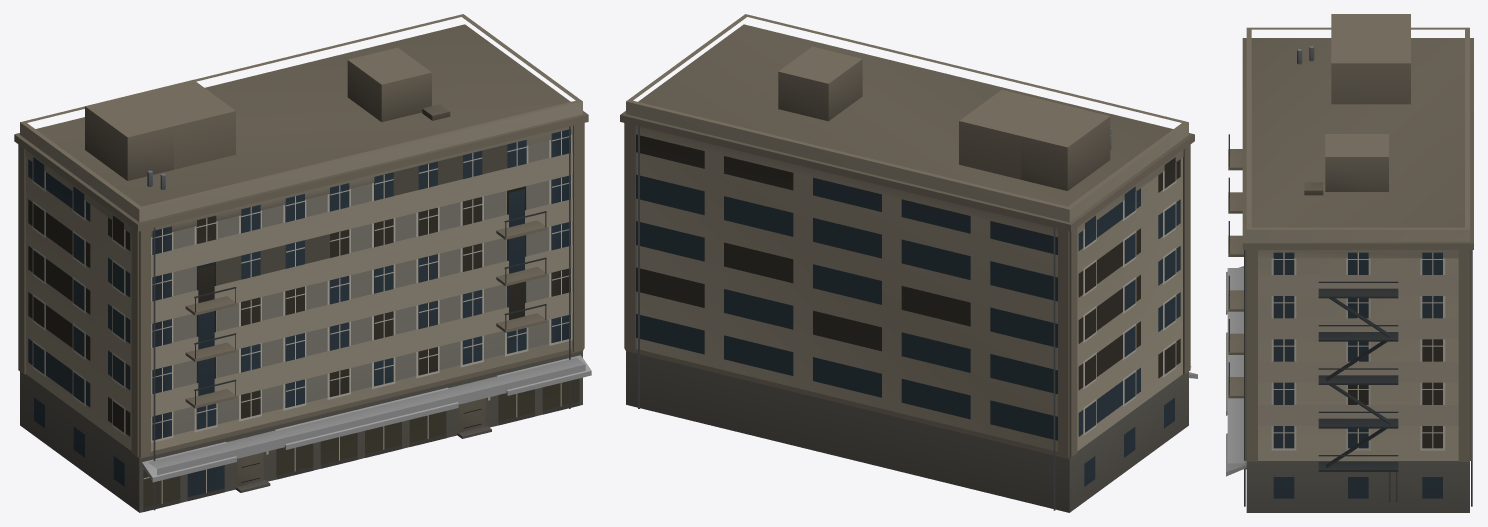
Rendered from bld_any_apartment.glb.
3 views of the same model, side by side, from view 1: azimuth 30°, elevation 25°; view 2: azimuth 150°, elevation 25°; view 3: azimuth 270°, elevation 25° (orthographic). The views are drawn at different scales.
Visible parts, largest first — view 1: bld_any_apartment_LOD0_mesh, bld_any_apartment_LOD1_mesh, bld_any_apartment_LOD2_mesh; view 2: bld_any_apartment_LOD1_mesh, bld_any_apartment_LOD0_mesh, bld_any_apartment_LOD2_mesh; view 3: bld_any_apartment_LOD0_mesh, bld_any_apartment_LOD1_mesh, bld_any_apartment_LOD2_mesh.
Part boxes in pixels (x1=…): bld_any_apartment_LOD0_mesh: x1=14, y1=14, x2=588, y2=511; bld_any_apartment_LOD1_mesh: x1=14, y1=101, x2=591, y2=512; bld_any_apartment_LOD2_mesh: x1=132, y1=79, x2=585, y2=512; bld_any_apartment_LOD1_mesh: x1=620, y1=101, x2=1196, y2=512; bld_any_apartment_LOD0_mesh: x1=620, y1=14, x2=1197, y2=510; bld_any_apartment_LOD2_mesh: x1=959, y1=90, x2=1191, y2=366; bld_any_apartment_LOD0_mesh: x1=1226, y1=14, x2=1473, y2=506; bld_any_apartment_LOD1_mesh: x1=1226, y1=229, x2=1469, y2=512; bld_any_apartment_LOD2_mesh: x1=1227, y1=35, x2=1410, y2=463.
Size of the model in its own units: 31.5 by 21.6 by 15.55.
